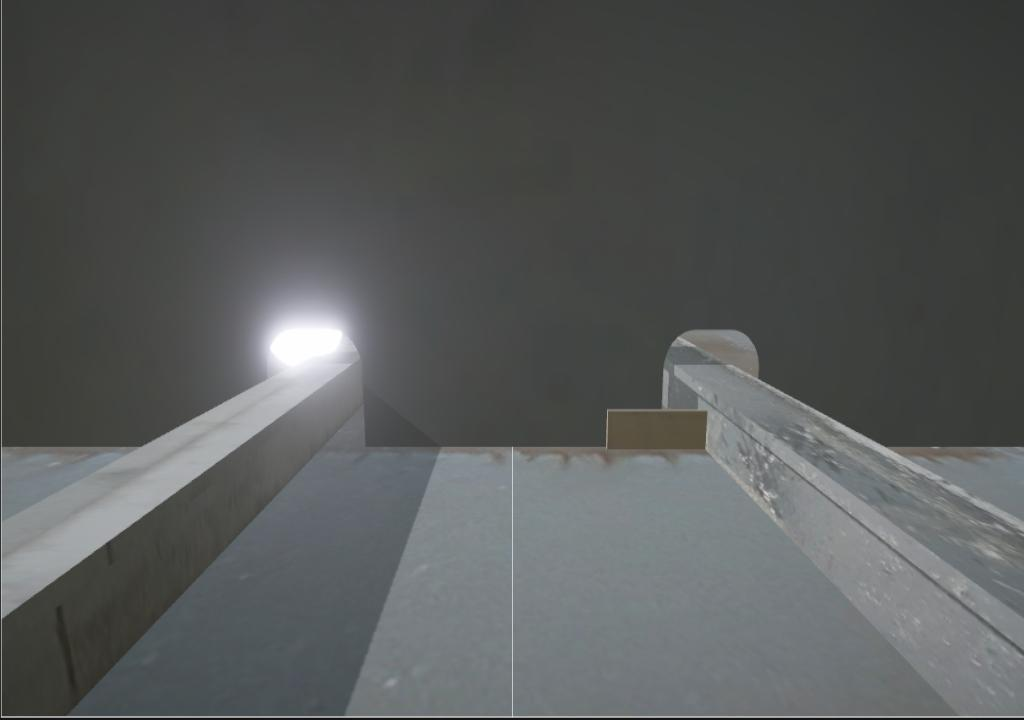fillet_yong_jeop_jang: (358, 436, 608, 455)
plate_CP01: (606, 409, 708, 450)
